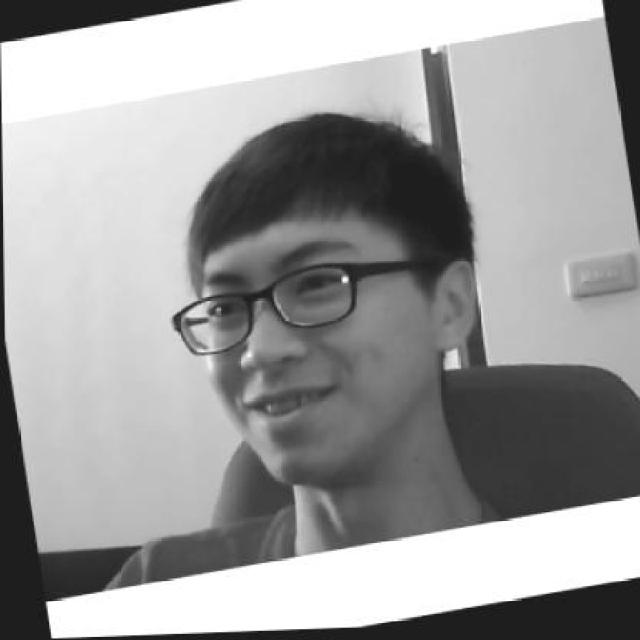attentif: (141, 92, 497, 506)
